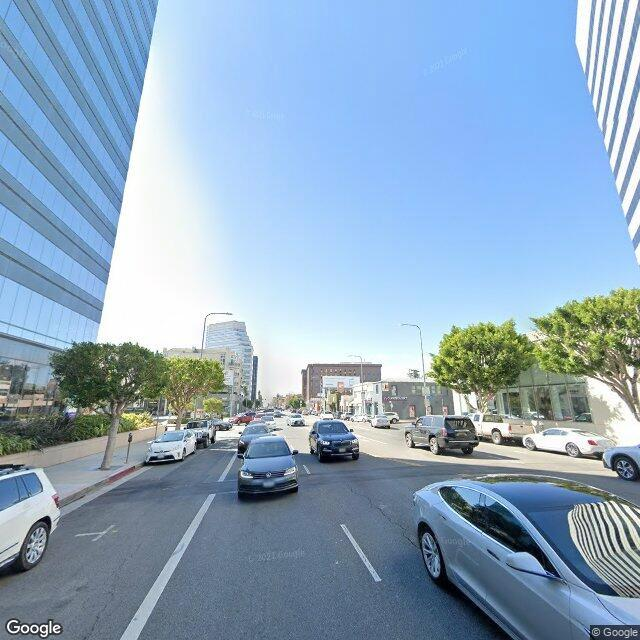crack: (343, 481, 419, 555)
